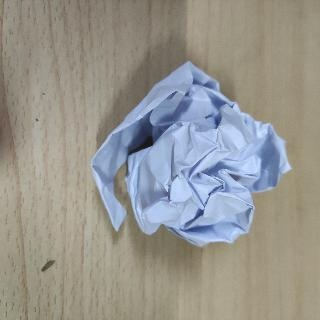8/可回收垃圾/纸: (90, 60, 293, 250)
